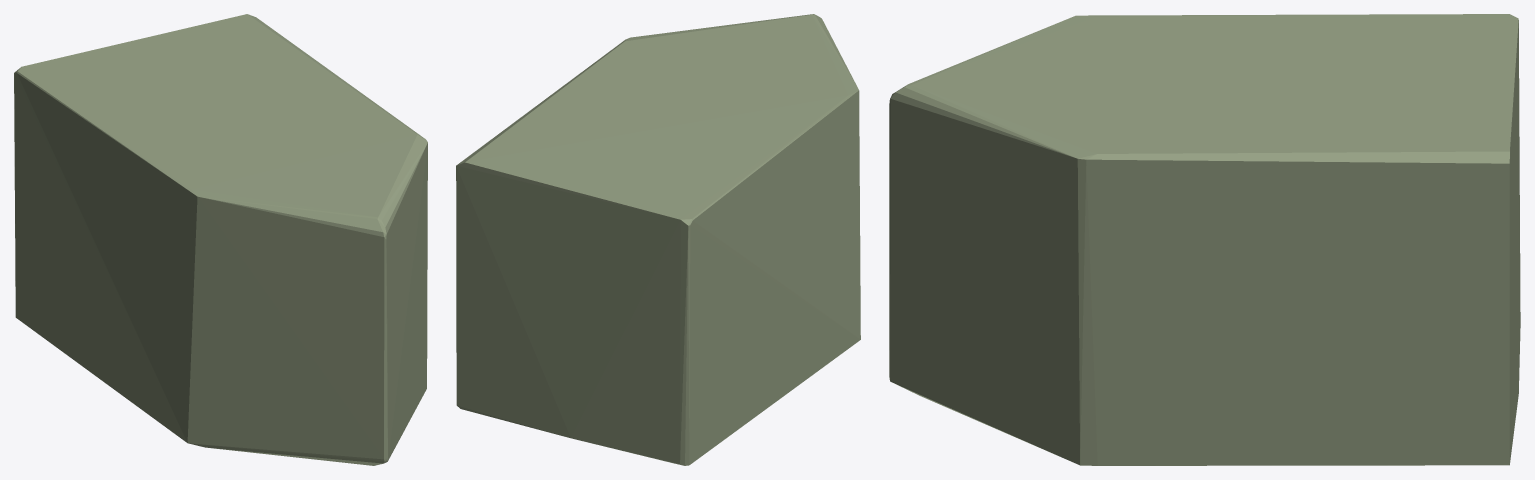
File: food_processed_milk_g01.glb
3 renders of one model, left to right at view 1: azimuth 30°, elevation 25°; view 2: azimuth 150°, elevation 25°; view 3: azimuth 270°, elevation 25°, orthographic. The views are drawn at different scales.
Visible parts, largest first — view 1: geometry_0; view 2: geometry_0; view 3: geometry_0.
Part boxes in pixels (<box>): geometry_0: <box>14,14,427,465</box>; geometry_0: <box>456,14,860,465</box>; geometry_0: <box>889,14,1520,465</box>.
Size of the model in its own units: 0.2608 by 0.2612 by 0.4793.
